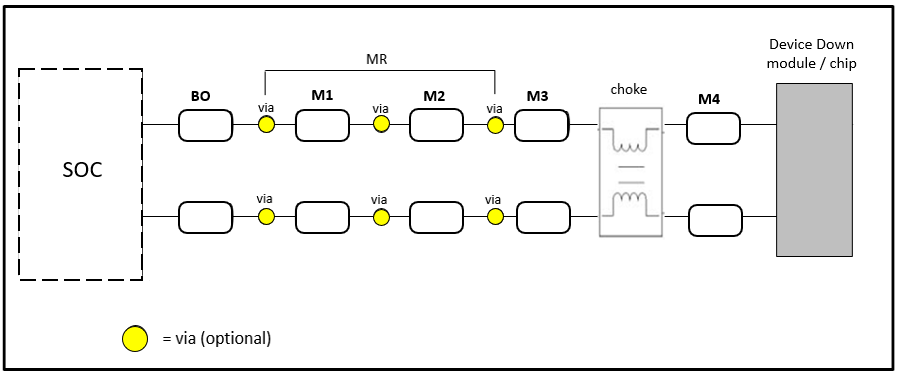choke: (591, 101, 668, 164), (590, 177, 667, 240)
circle: (255, 115, 280, 136), (255, 206, 280, 227), (370, 114, 395, 135), (370, 207, 395, 228), (484, 112, 509, 133), (482, 207, 507, 228)
dotted_rectangle: (8, 57, 151, 289)
oval: (173, 104, 236, 146), (175, 196, 238, 238), (289, 104, 352, 146), (290, 196, 353, 238), (406, 104, 469, 146), (406, 198, 469, 240), (510, 103, 573, 145), (511, 195, 574, 237), (682, 109, 745, 151), (684, 200, 747, 242)
rectangle: (772, 73, 857, 266)
